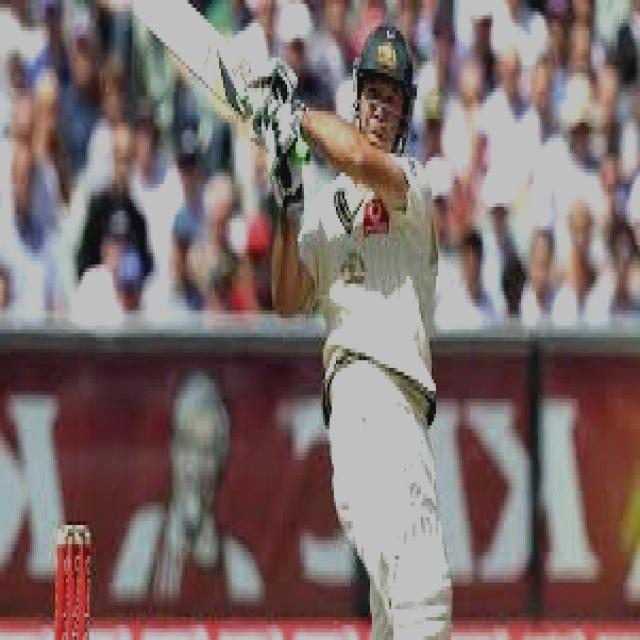toe: (136, 0, 196, 26)
